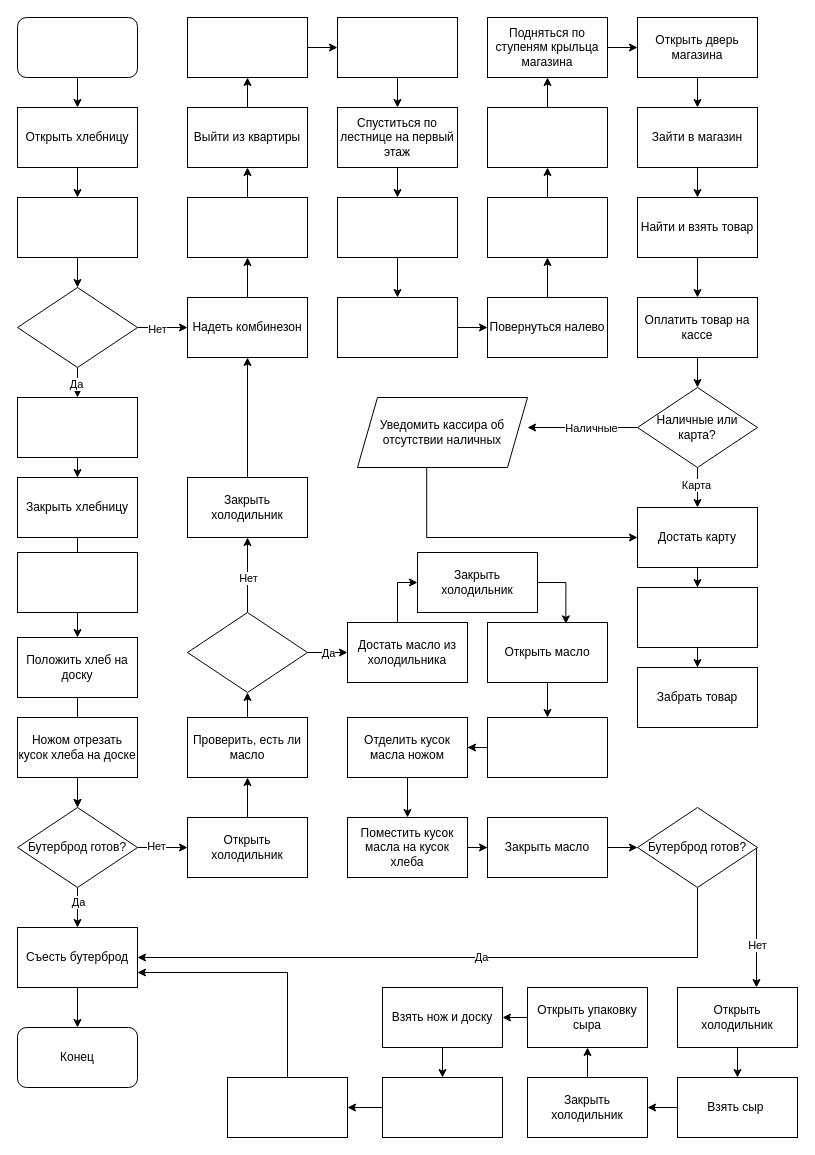
The diagram is 815 pixels wide and 1155 high, and some of its shapes have lost their labels. Each missing label, with the box of its shape:
Взять нож: (486, 716, 608, 778)
Выйти из подъезда: (336, 296, 458, 358)
Достать доску и нож: (16, 552, 138, 612)
Достать хлеб из хлебницы: (16, 396, 138, 458)
Закрыть замок квартиры: (186, 16, 308, 78)
Масло есть?: (186, 612, 308, 692)
Надеть обувь: (186, 196, 308, 258)
Начало: (16, 16, 138, 78)
Обойти дом вдоль торца: (486, 106, 608, 168)
Открыть дверь подъезда: (336, 196, 458, 258)
Отрезать два куска сыра ножом на доску: (382, 1076, 502, 1138)
Поместить два куска сыра на кусок масла на куске хлеба: (226, 1076, 348, 1138)
Посмотреть, есть ли хлеб: (16, 196, 138, 258)
Приложить к терминалу: (636, 586, 758, 648)
Пройти до конца дома: (486, 196, 608, 258)
Убрать ключи в карман: (336, 16, 458, 78)
Хлеб есть?: (16, 286, 138, 368)
